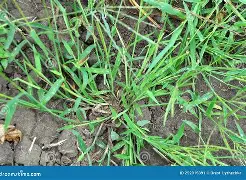weed: (0, 0, 245, 165)
